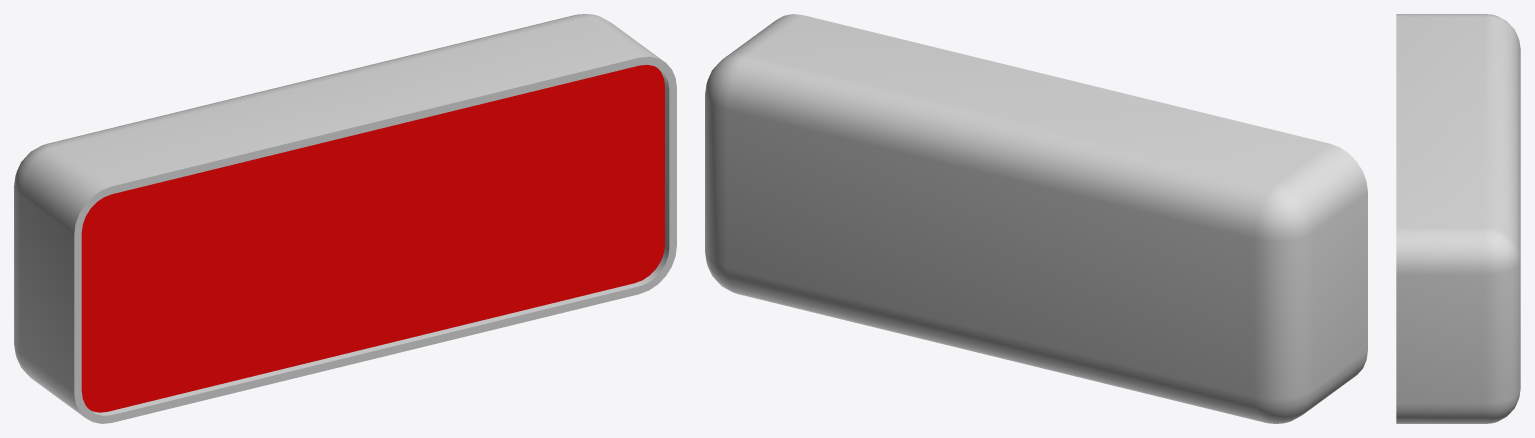
The model's file is clock_digital.dae.
3 renders of one model, left to right at view 1: azimuth 30°, elevation 25°; view 2: azimuth 150°, elevation 25°; view 3: azimuth 270°, elevation 25°, orthographic. The views are drawn at different scales.
Parts seen in each view (by area): view 1: clock_digital_4digits; view 2: clock_digital_4digits; view 3: clock_digital_4digits.
Boxes of the visible parts, box(x1,y1,x2,y2) form: clock_digital_4digits: box(14, 14, 676, 423); clock_digital_4digits: box(705, 14, 1367, 423); clock_digital_4digits: box(1396, 14, 1520, 423).
Size of the model in its own units: 0.16 by 0.035 by 0.06.
